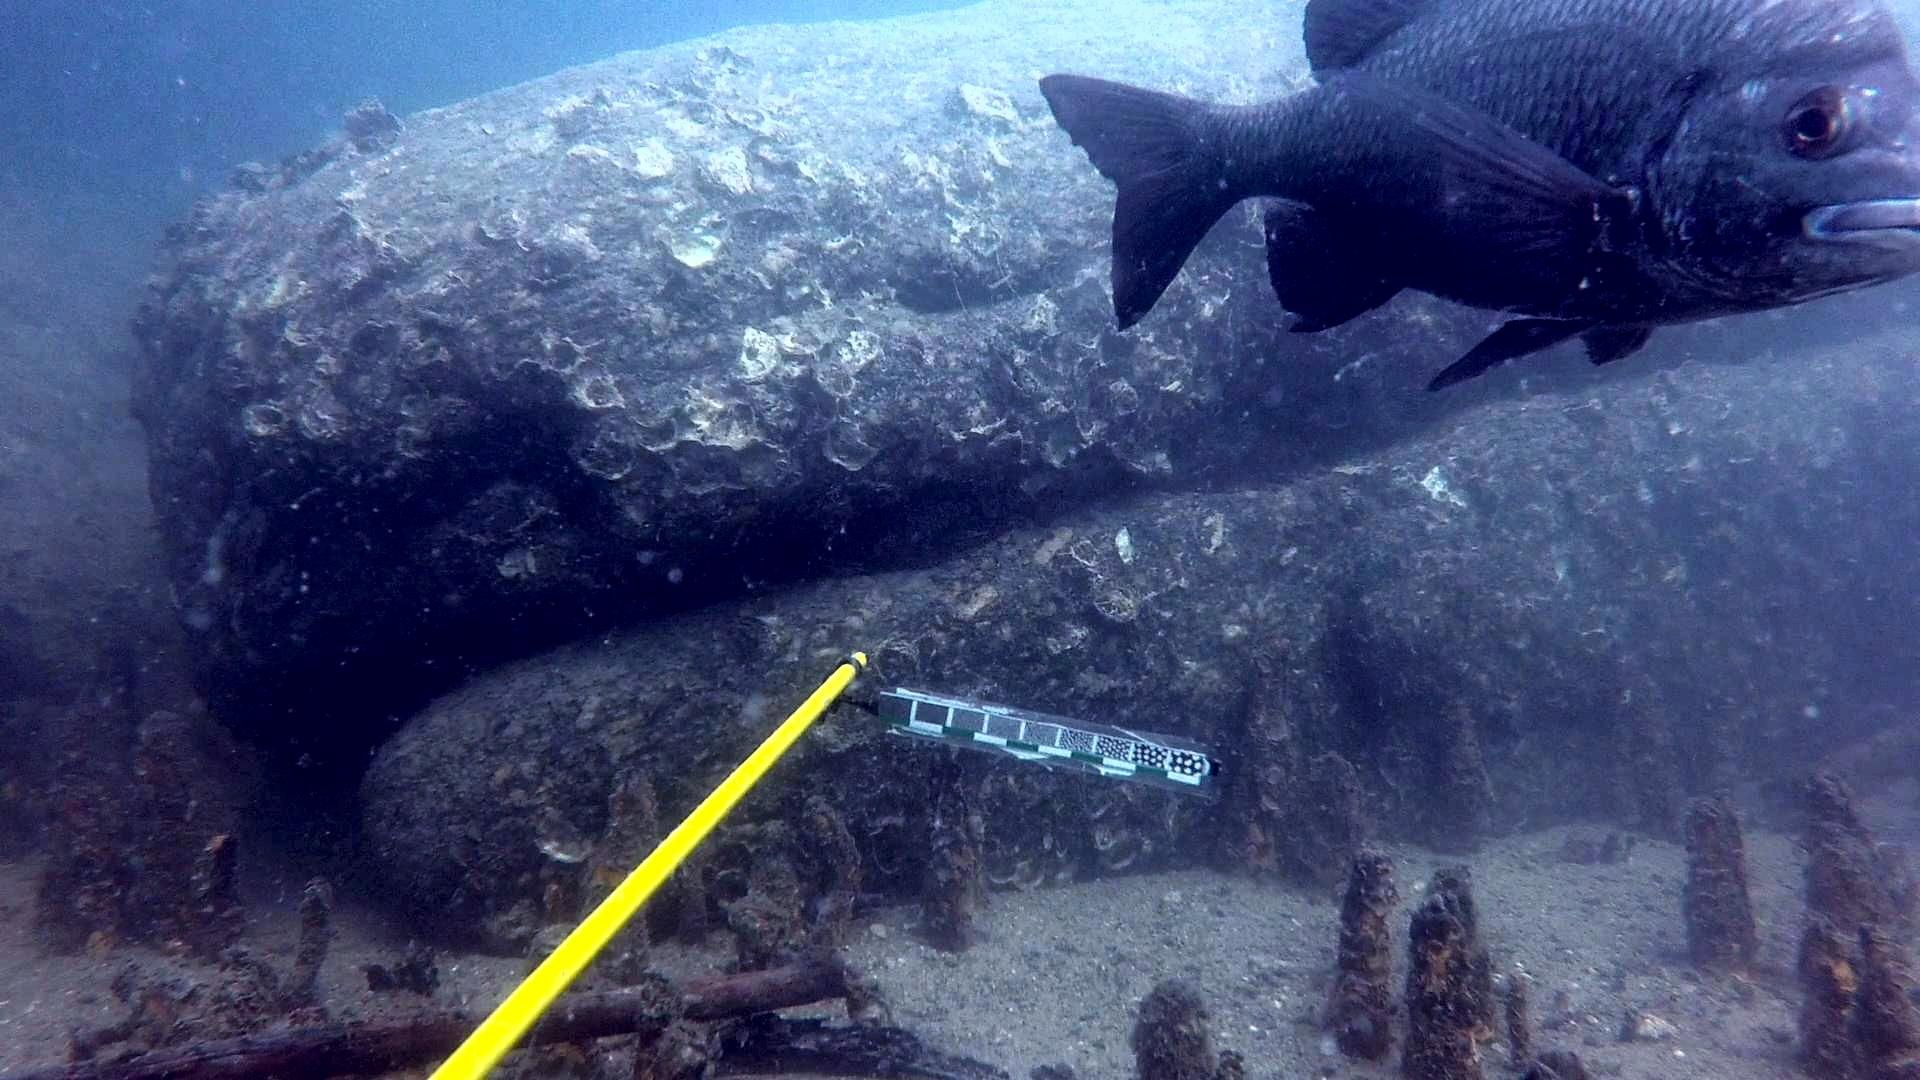acanthopagrus palmaris: (1018, 0, 1920, 407)
